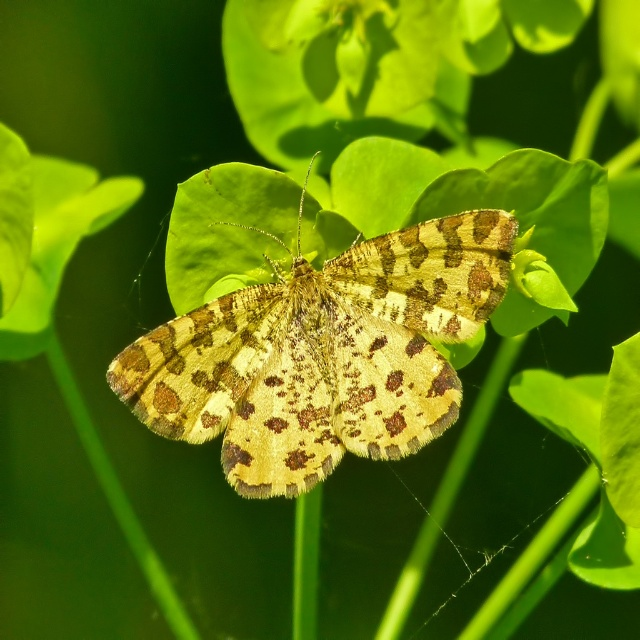Butterfly: (113, 168, 530, 491)
